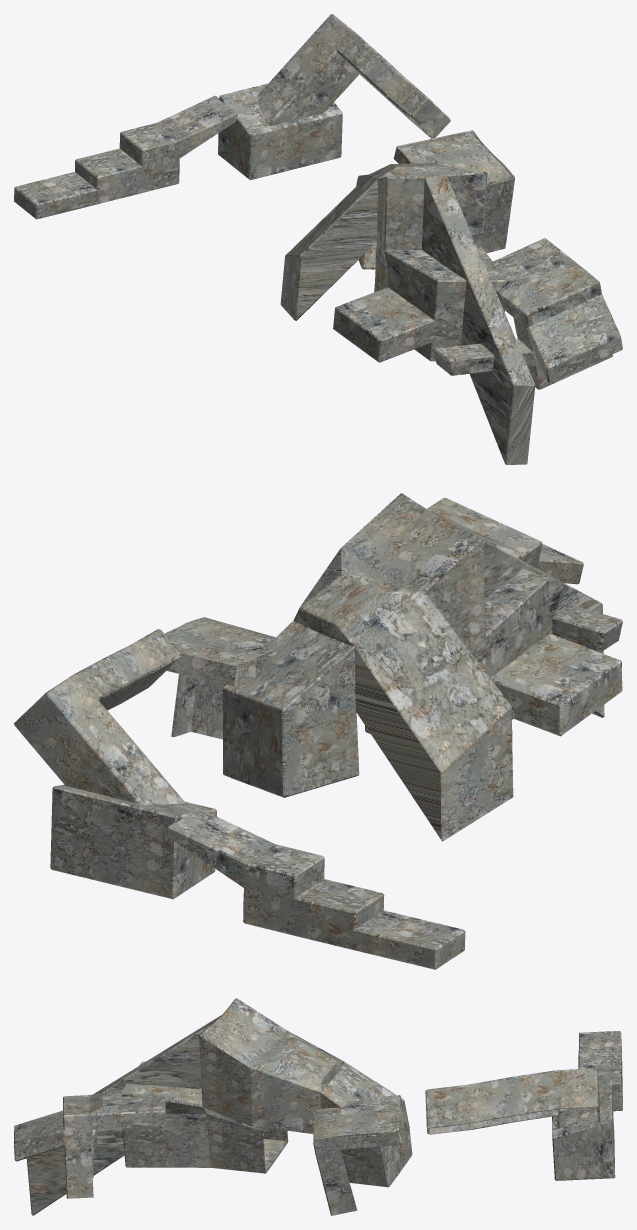
File: gym1c.glb
3 views of the same model, one above another, from view 1: azimuth 30°, elevation 25°; view 2: azimuth 150°, elevation 25°; view 3: azimuth 270°, elevation 25° (orthographic). The views are drawn at different scales.
Parts seen in each view (by area): view 1: doors.002; view 2: doors.002; view 3: doors.002.
Part boxes in pixels (x1,y1,x2,y2): doors.002: (14, 14, 622, 464); doors.002: (14, 493, 622, 969); doors.002: (14, 998, 622, 1215).
Bounding box in the file's own units: 19.28 × 11.65 × 31.56.
1 material, 1 textured.
